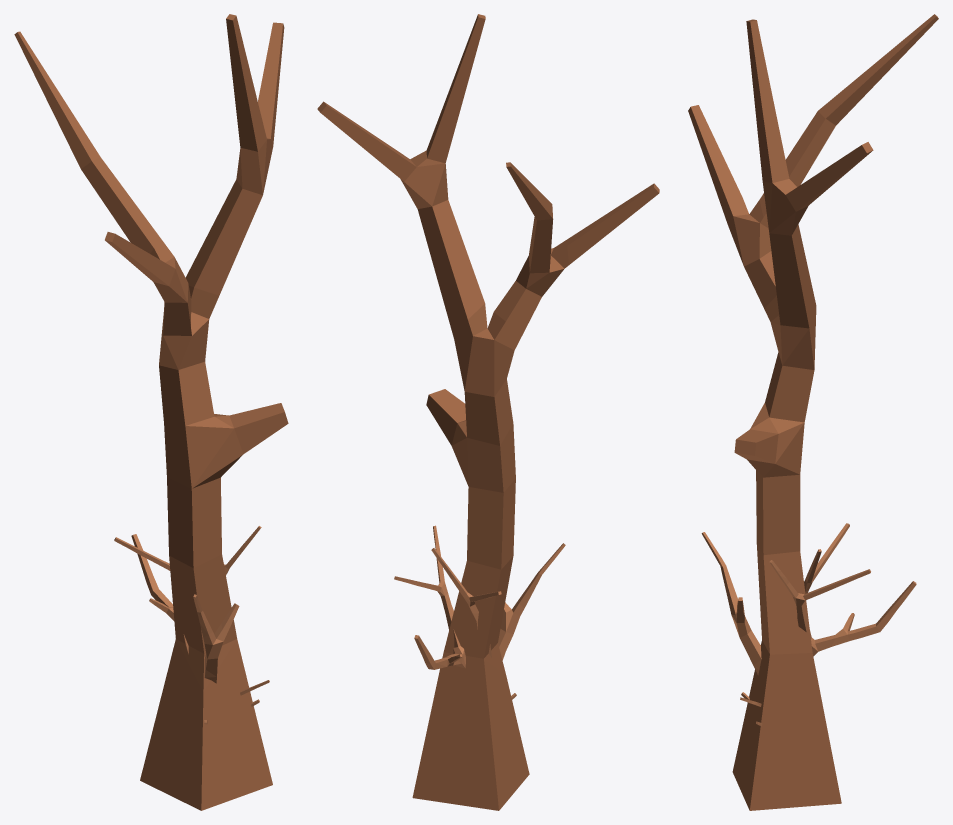
Rendered from Stumps.fbx.
3 renders of one model, left to right at view 1: azimuth 30°, elevation 25°; view 2: azimuth 150°, elevation 25°; view 3: azimuth 270°, elevation 25°, orthographic. The views are drawn at different scales.
Parts seen in each view (by area): view 1: Stump_3, Stump_2; view 2: Stump_3, Stump_2, Stump_1; view 3: Stump_3, Stump_2, Stump_1.
Part boxes in pixels (x1,y1,x2,y2): Stump_3: [14, 14, 288, 810]; Stump_2: [131, 526, 269, 724]; Stump_3: [317, 14, 659, 810]; Stump_2: [394, 525, 565, 699]; Stump_1: [431, 548, 501, 657]; Stump_3: [688, 14, 938, 810]; Stump_2: [701, 532, 916, 706]; Stump_1: [756, 523, 849, 726].
Size of the model in its own units: 568 by 1594 by 468.
